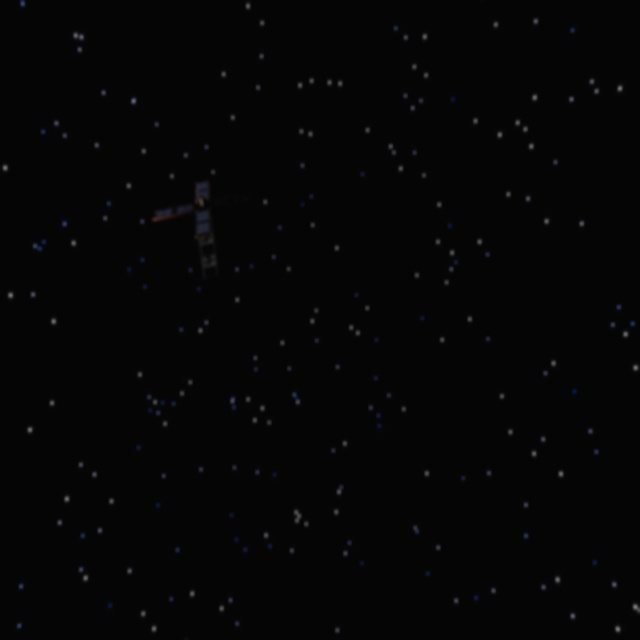satellite: (149, 174, 231, 274)
